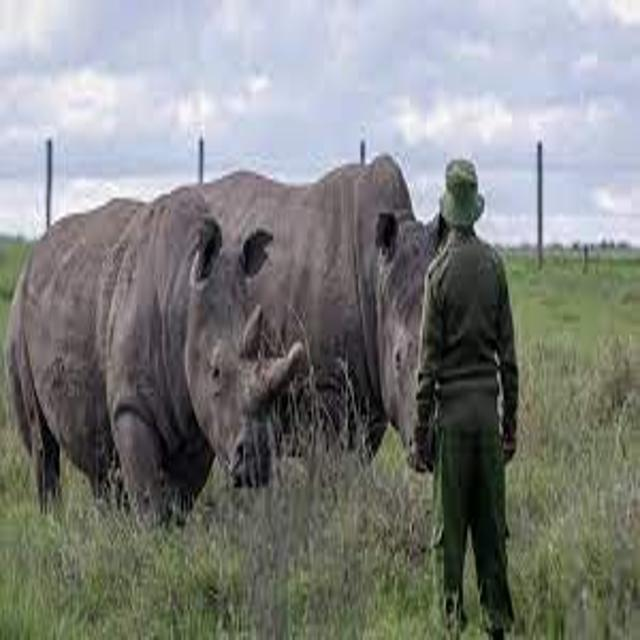Rinoceros: (3, 174, 330, 532), (252, 95, 479, 502)
